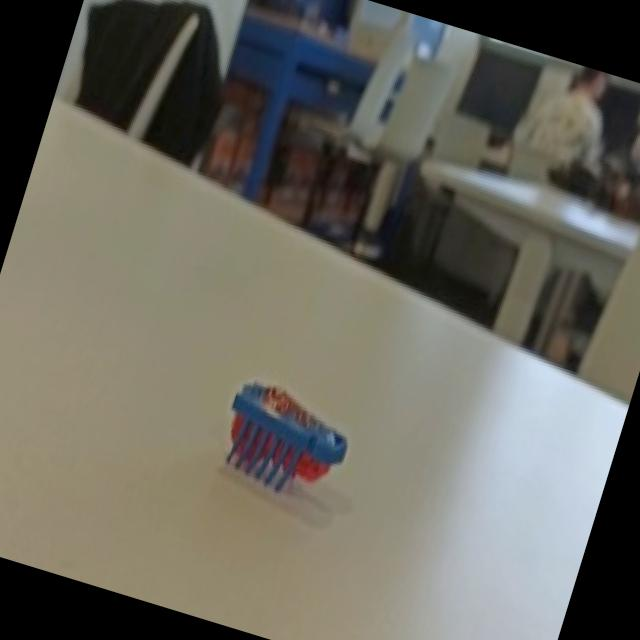1_NanoBug_Azul: (188, 340, 390, 548)
